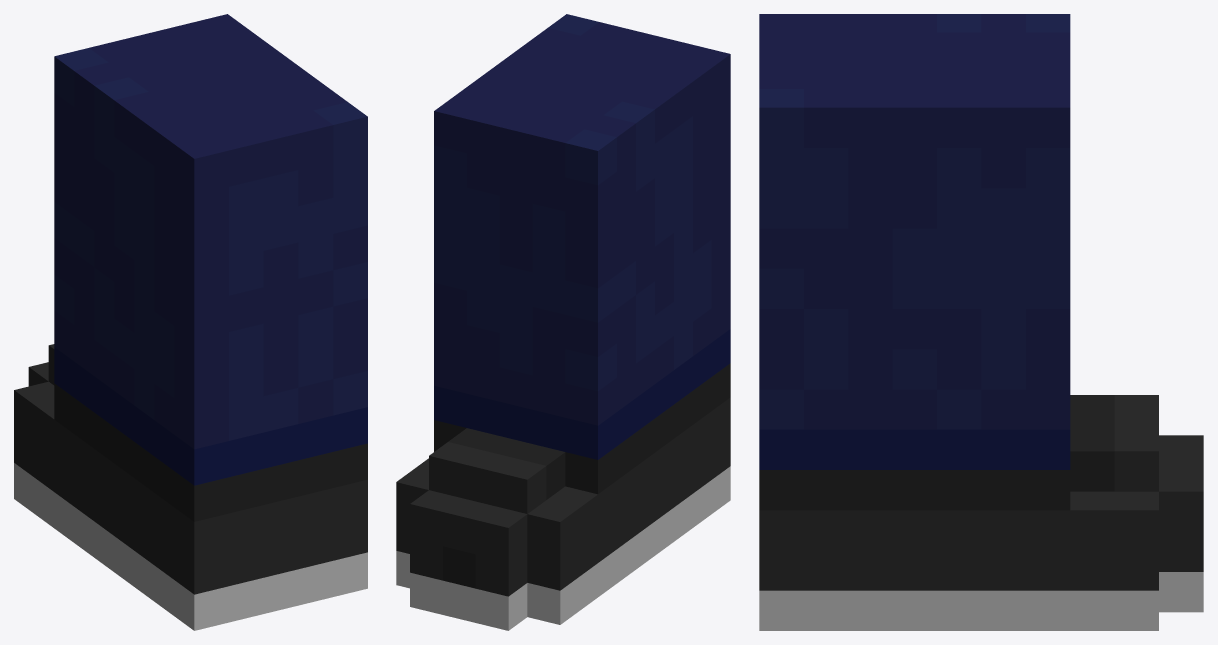
File: noga.obj
3 views of the same model, side by side, from view 1: azimuth 30°, elevation 25°; view 2: azimuth 150°, elevation 25°; view 3: azimuth 270°, elevation 25° (orthographic). The views are drawn at different scales.
Bounding box in the file's own units: 0.5 × 1.3 × 1.
1 material, 1 textured.
